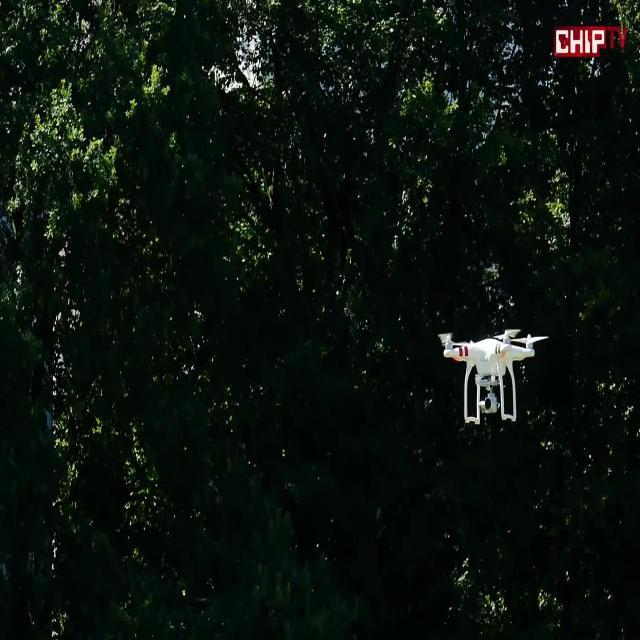drone: (436, 324, 548, 426)
